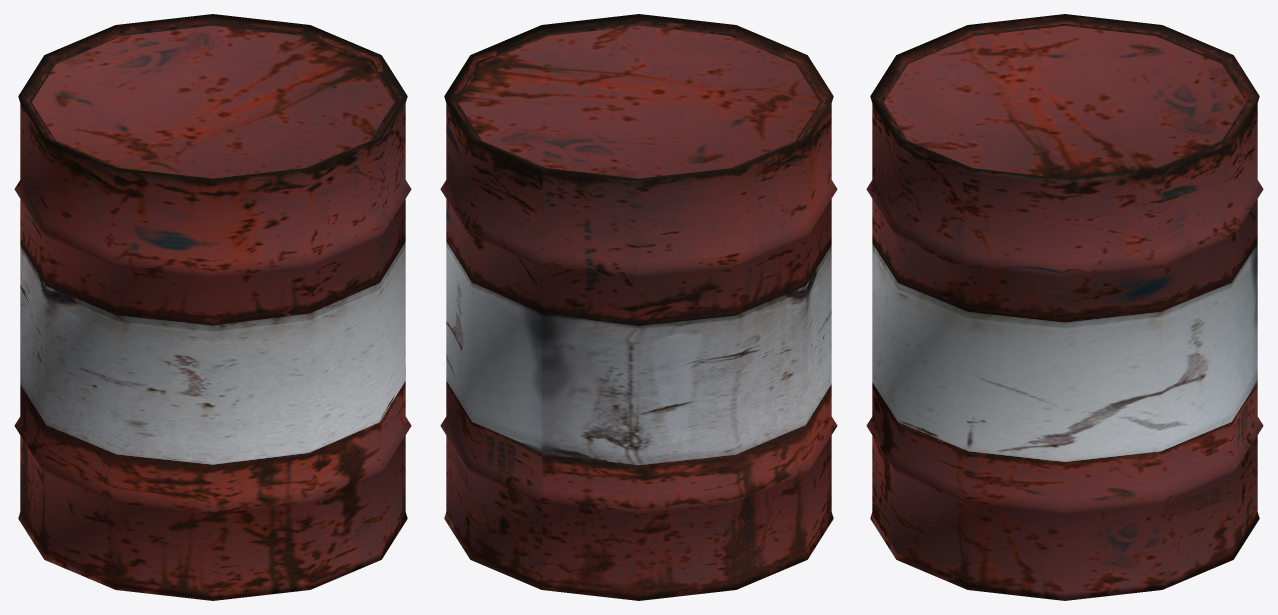
The model's file is Red Barrel.fbx.
The picture shows the model from 3 angles, left to right: view 1: azimuth 30°, elevation 25°; view 2: azimuth 150°, elevation 25°; view 3: azimuth 270°, elevation 25°; orthographic projection.
Visible parts, largest first — view 1: Red Barrel; view 2: Red Barrel; view 3: Red Barrel.
Boxes of the visible parts, x1,y1,x2,y2 form: Red Barrel: [14, 14, 411, 600]; Red Barrel: [440, 14, 837, 600]; Red Barrel: [866, 14, 1263, 600].
Size of the model in its own units: 75.28 by 88.31 by 75.28.
